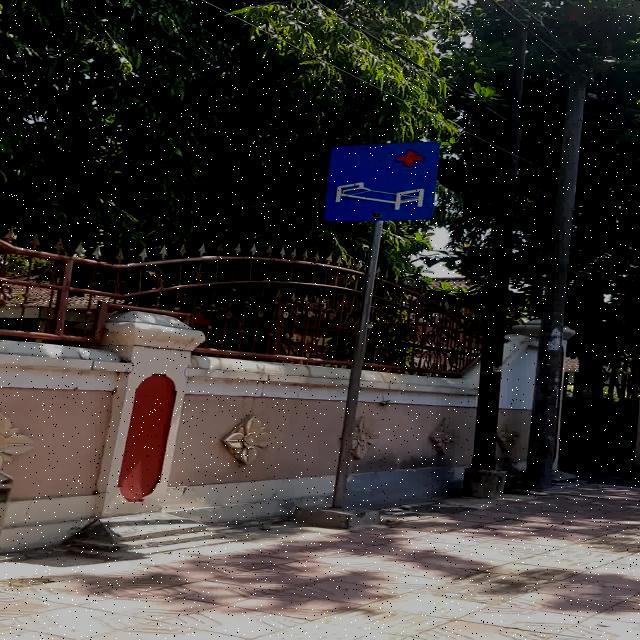Rumah Sakit: (322, 142, 440, 222)
